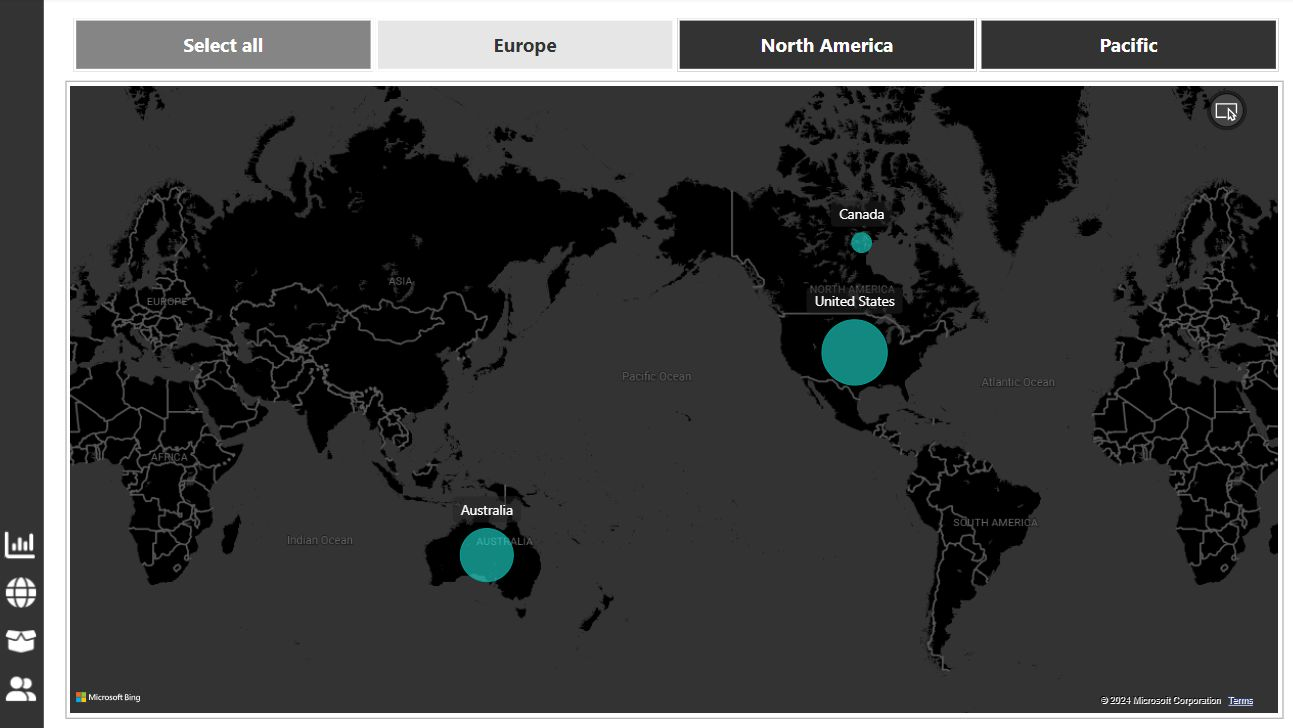

Layout of this report page (visuals, bound fields, positions):
{"tool":"powerbi","page":{"name":"Map","canvas":[1280,720],"ordinal":1},"visuals":[{"type":"shape","box":[0,0,45,720],"z":0},{"type":"actionButton","box":[2.5,516.7,45.6,37.8],"z":0,"group":"g1"},{"type":"actionButton","box":[3.3,563.4,45.6,37.8],"z":1000,"group":"g1"},{"type":"map","fields":{"Category":["Territory Lookup.Country"],"Size":["Measure Table.Total Orders"]},"box":[65.6,82.5,1191.3,622.8],"z":1000},{"type":"slicer","fields":{"Values":["Territory Lookup.Continent"]},"box":[43,13.6,1234.3,65.6],"z":2000},{"type":"actionButton","box":[3.3,611.1,45.6,37.8],"z":2000,"group":"g1"},{"type":"actionButton","box":[3.3,657.8,45.6,37.8],"z":3000,"group":"g1"},{"type":"group","id":"g1","title":"Navigation Buttons","box":[2.5,516.7,46.4,178.9],"z":3000}]}

Visuals, with their boxes in screenshot pixels (x1, y1, x2, y2):
shape: left=24, top=3, right=68, bottom=721
actionButton: left=26, top=518, right=71, bottom=556
actionButton: left=27, top=565, right=72, bottom=602
map - Territory Lookup.Country x Measure Table.Total Orders: left=89, top=86, right=1276, bottom=706
slicer - Territory Lookup.Continent: left=66, top=17, right=1292, bottom=82
actionButton: left=27, top=612, right=72, bottom=650
actionButton: left=27, top=659, right=72, bottom=696
"Navigation Buttons" group: left=26, top=518, right=72, bottom=696
